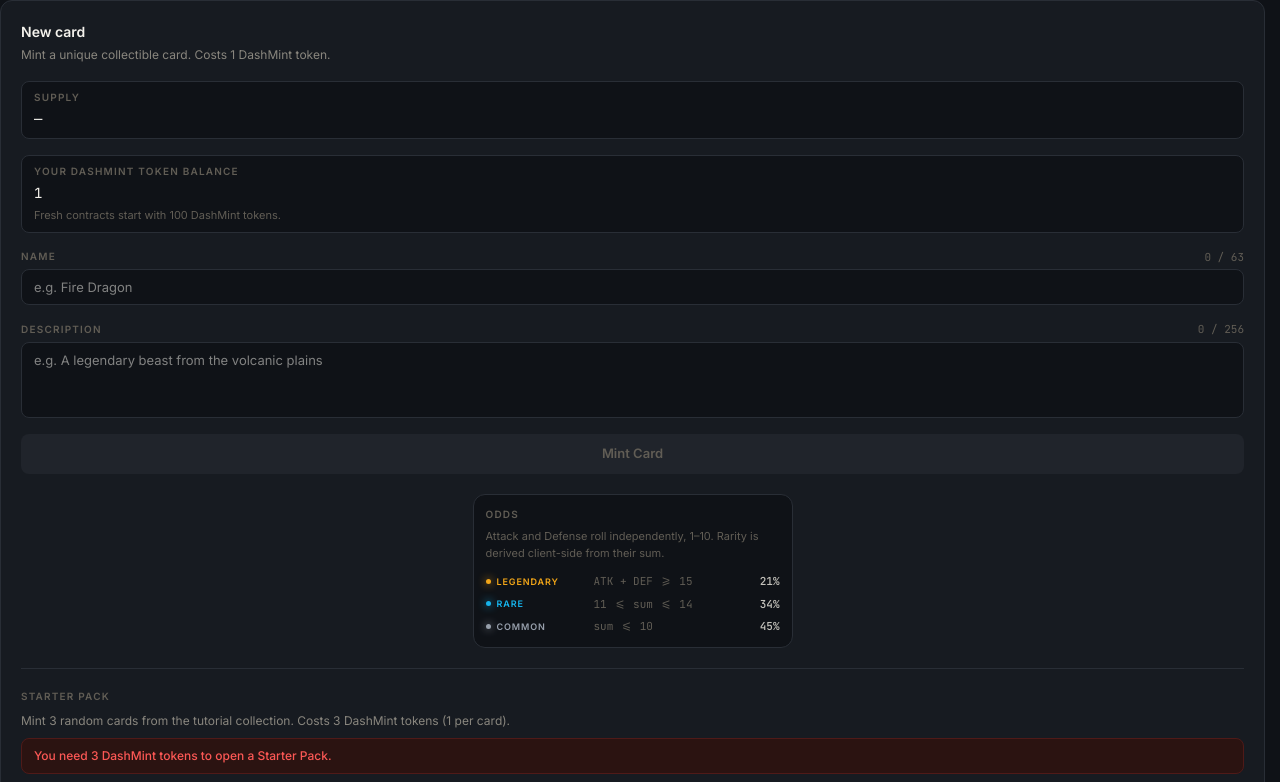
Scenario: MintForm › allows a single mint but disables starter pack when balance is below pack size
In the field with placeholder "e.g. Fire Dragon": (632, 287) [21,269,1244,305], type "Sky Hunter"
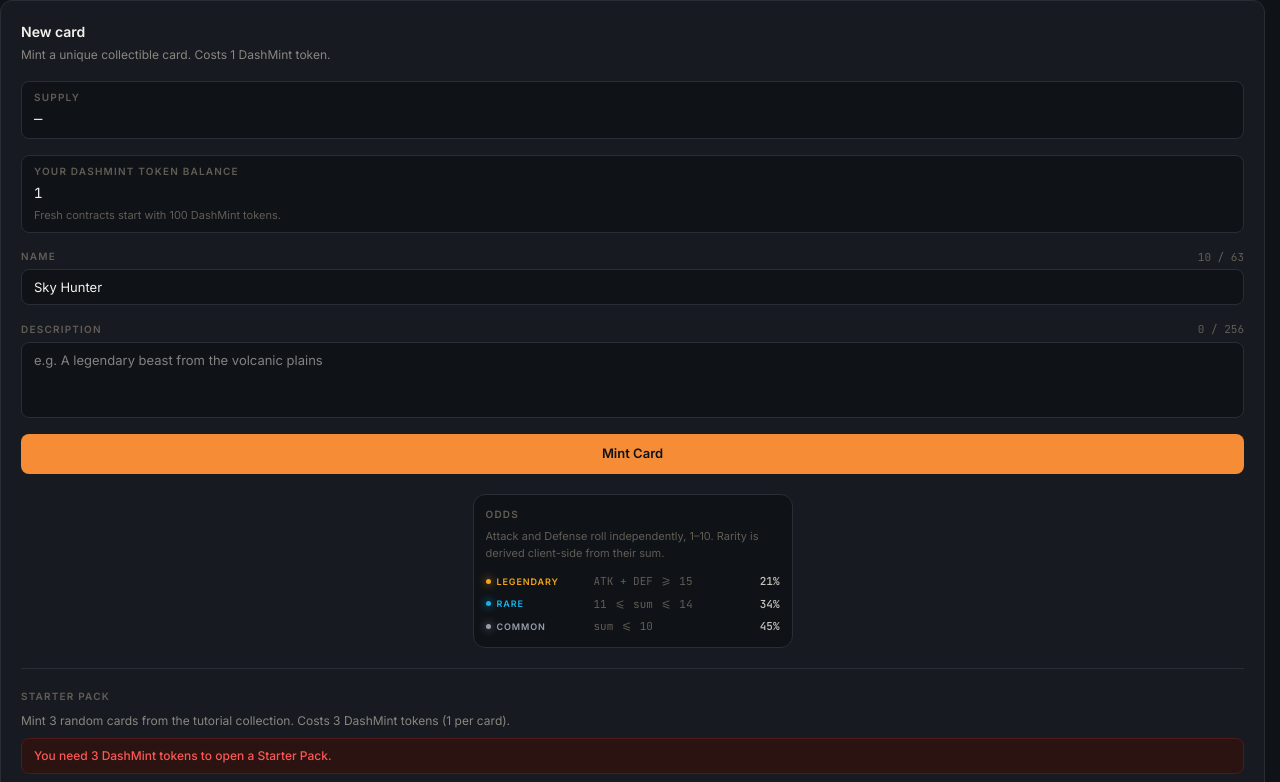
Result: the button "Mint Card" is enabled at [21,434,1244,474]
